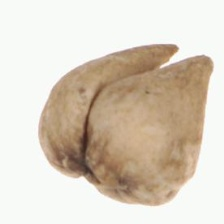L1: (48, 157, 116, 199), (148, 42, 214, 76)
L2: (37, 42, 213, 205)
